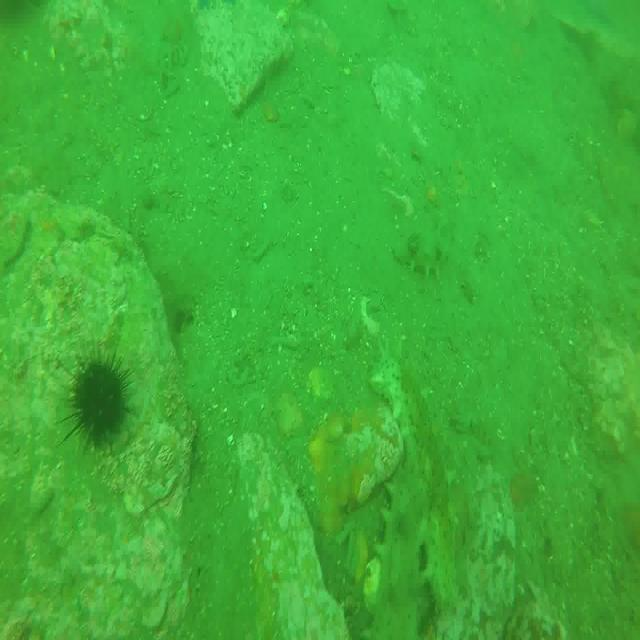echinus: (65, 345, 126, 444)
holothurian: (369, 333, 458, 609), (372, 471, 425, 640), (393, 216, 452, 276)
